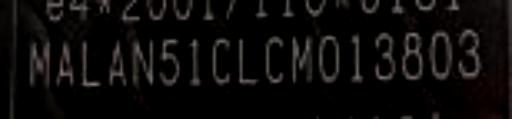letter: (452, 26, 484, 85), (22, 36, 56, 91), (76, 36, 106, 91), (232, 36, 262, 91), (370, 30, 398, 85), (346, 29, 372, 88), (289, 29, 315, 88), (316, 29, 342, 88), (262, 33, 288, 92), (130, 36, 158, 89), (429, 30, 455, 85), (206, 36, 232, 91), (399, 29, 425, 82), (106, 36, 132, 89), (156, 36, 182, 89), (53, 39, 79, 92), (186, 36, 208, 91)
